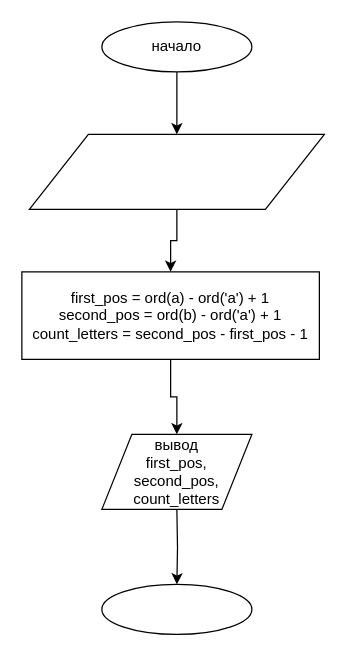
This 346x656 diagram has some shape labels left out. The shapes that lost their labels are listed below. From the top down, each one's box as (x1, y1, x2, y2) in pixels, then its label:
(28, 133, 324, 209): ввод a, b: str
(101, 583, 252, 634): конец
